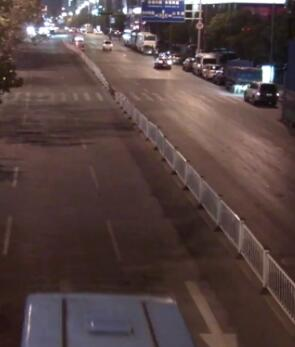bus: (20, 287, 197, 345), (129, 29, 156, 53), (120, 27, 132, 45)
car: (225, 58, 263, 93), (242, 80, 279, 107), (191, 52, 214, 74), (201, 62, 223, 79), (154, 53, 174, 69), (181, 56, 193, 71), (102, 38, 114, 52), (72, 33, 84, 42)
